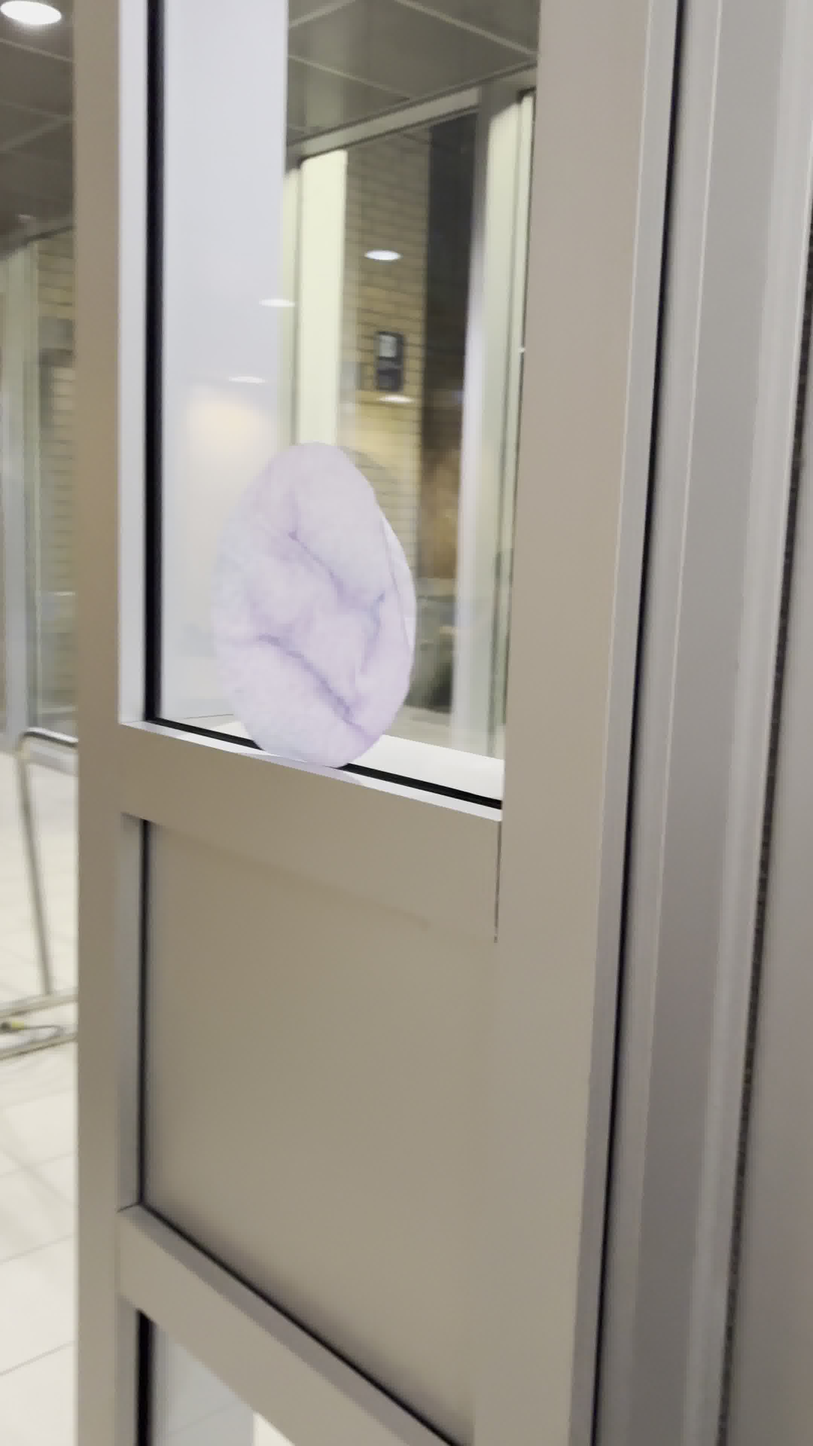Target: (211, 434, 419, 771)
